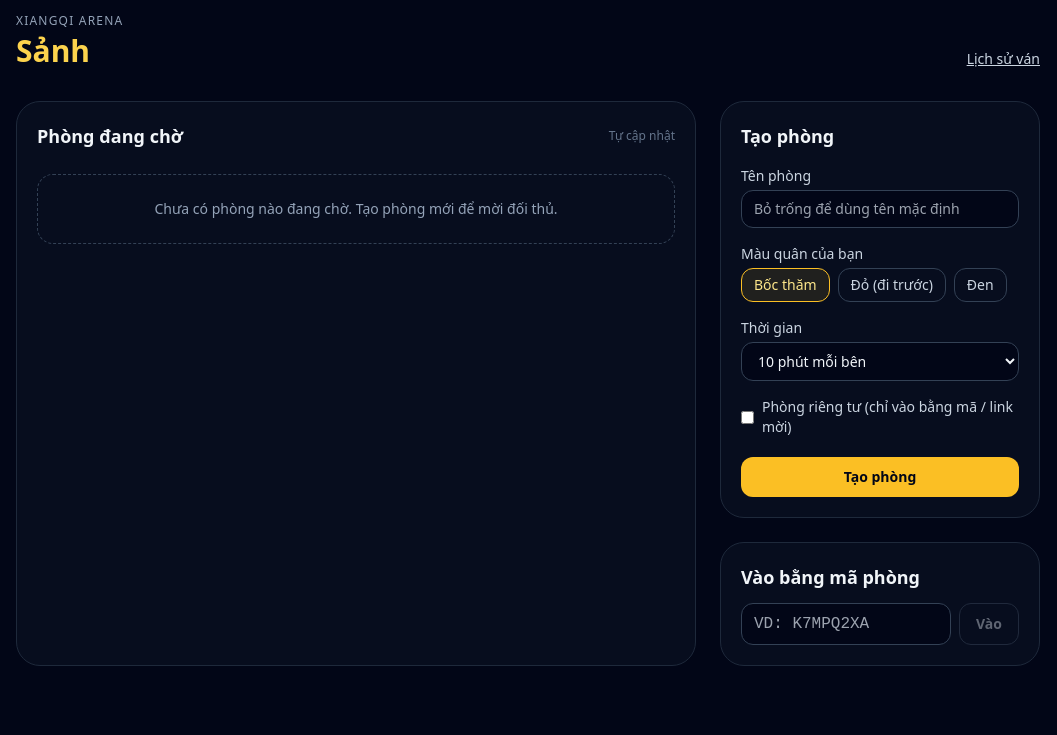
Scenario: Lobby › tạo phòng lỗi ROOM_USER_BUSY → báo lỗi tiếng Việt, không chuyển trang
Click the button "Tạo phòng" at (880, 477), box [741,457,1019,497]
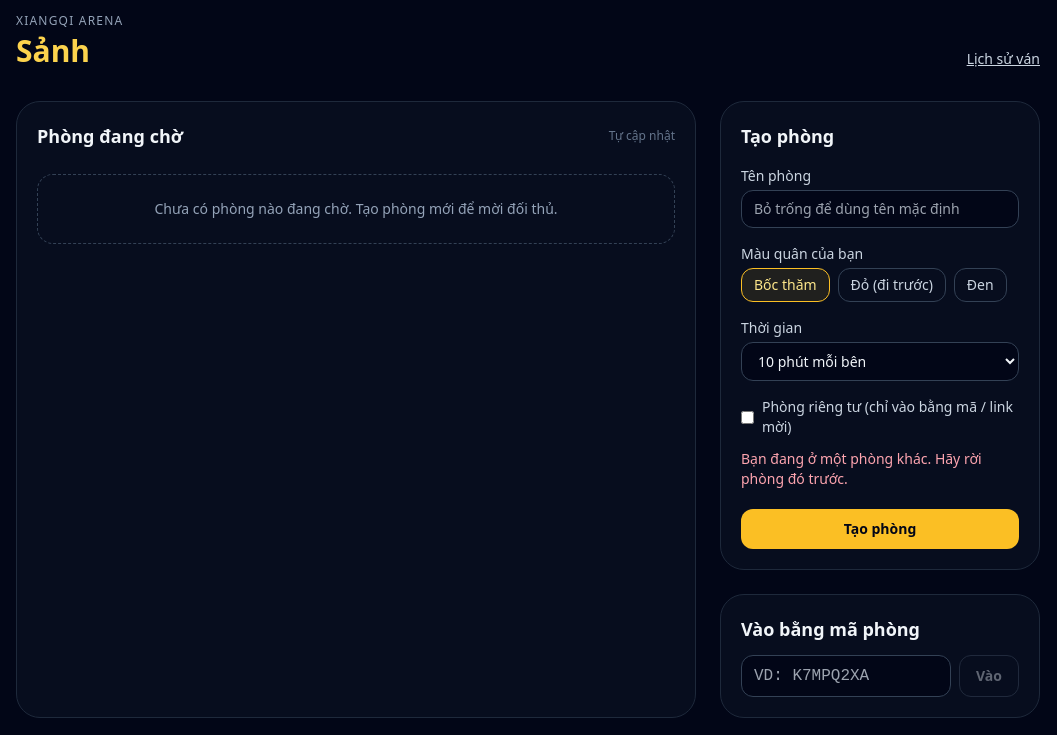
Expected: the button "Tạo phòng" is enabled, [741,509,1019,549]
Result: the message shows "Bạn đang ở một phòng khác" at [741,449,982,488]
